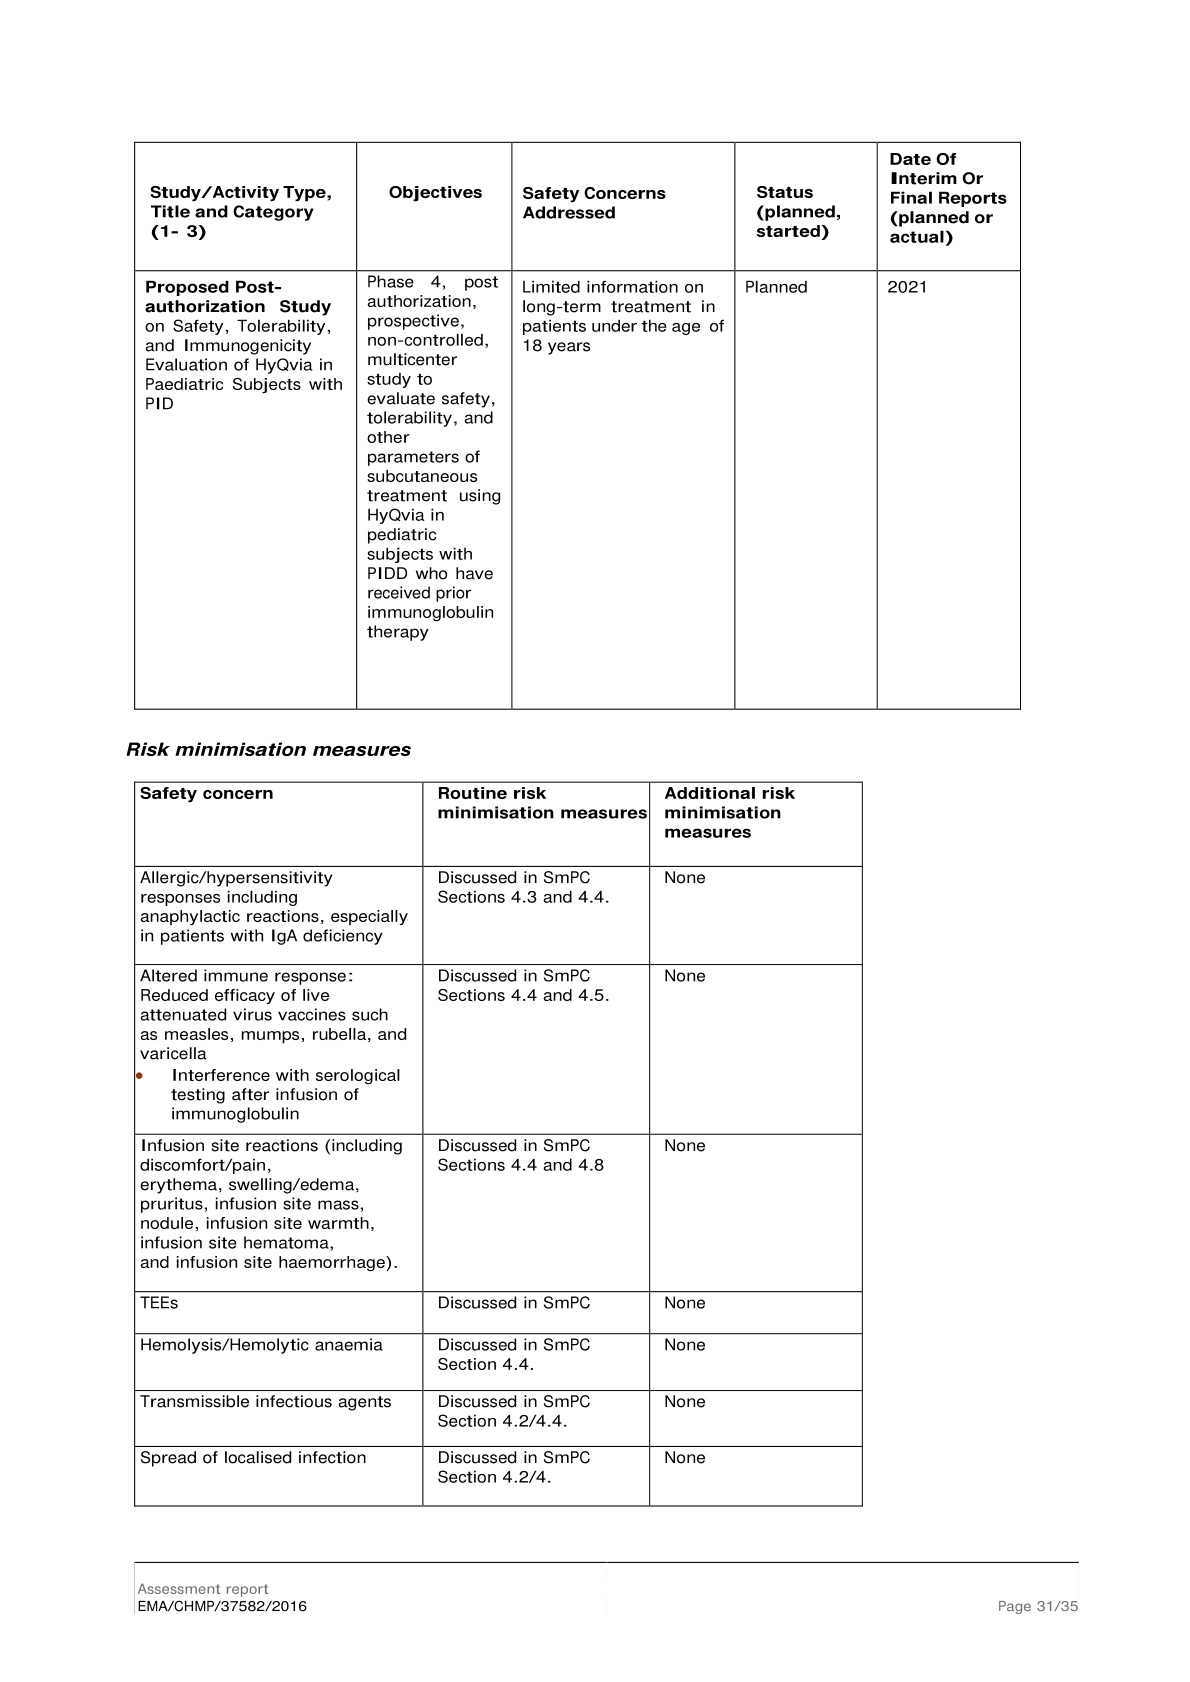full_lined: (133, 780, 864, 1508), (133, 140, 1023, 711)
